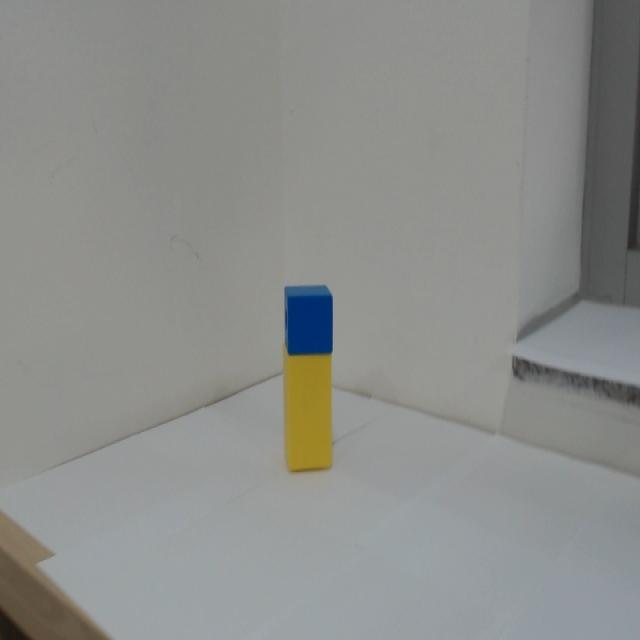cube: (283, 283, 334, 357)
